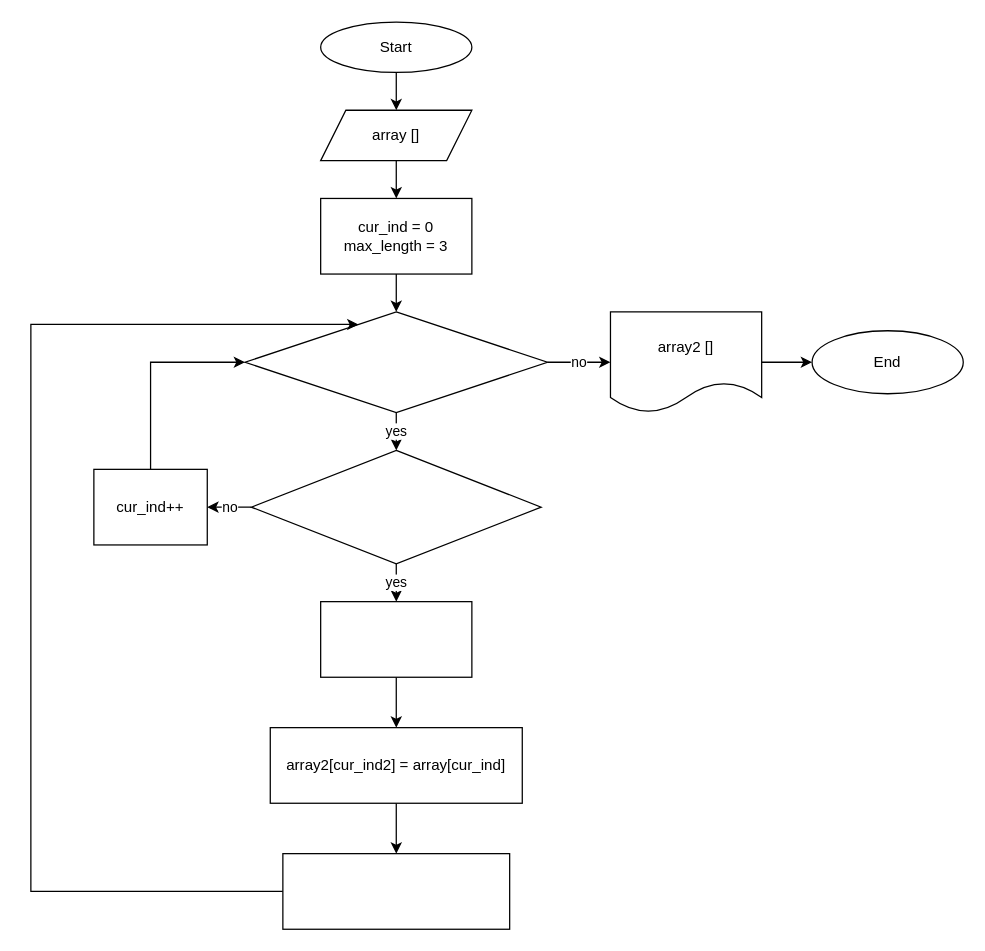
This 985x951 diagram has some shape labels left out. Each missing label, with the centre of its shape:
"array2 [] cur_ind2 = 0" belongs at [395,638].
"array[cur_ind].Length <= max_length" belongs at [395,506].
"cur_ind < array.Length" belongs at [395,362].
"cur_ind++ cur_ind2++" belongs at [396,890].
